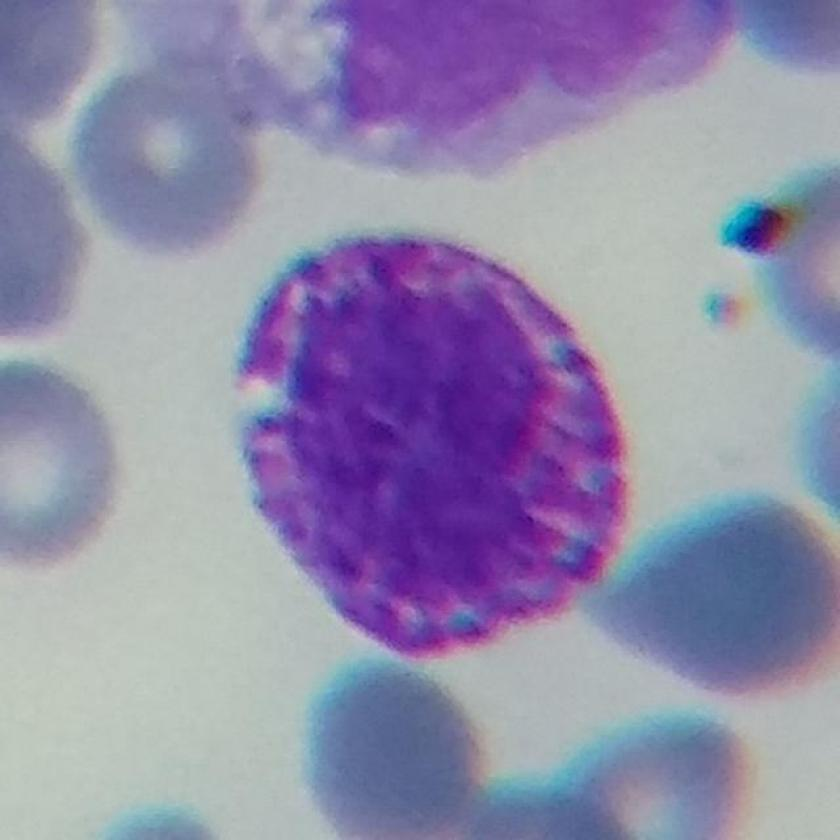basophil: (228, 215, 649, 664)
